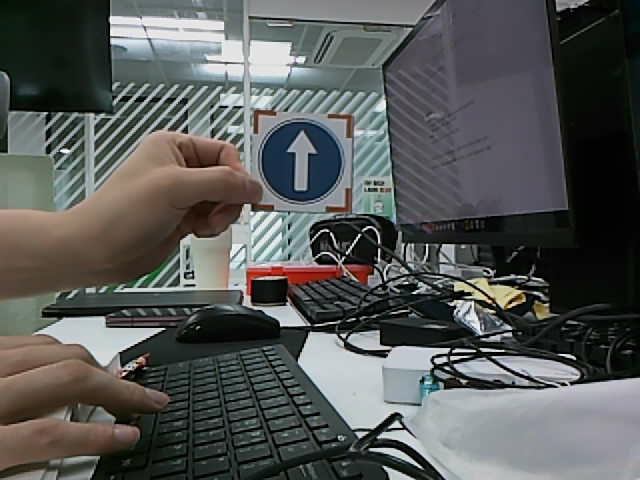go: (258, 117, 345, 205)
